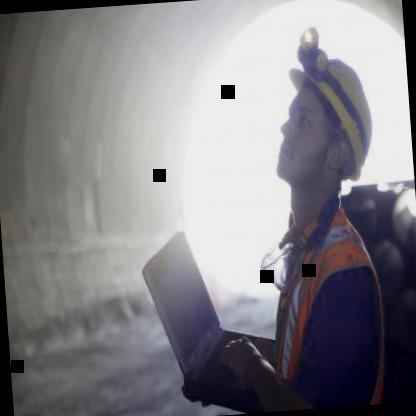helmet: (266, 48, 380, 200)
